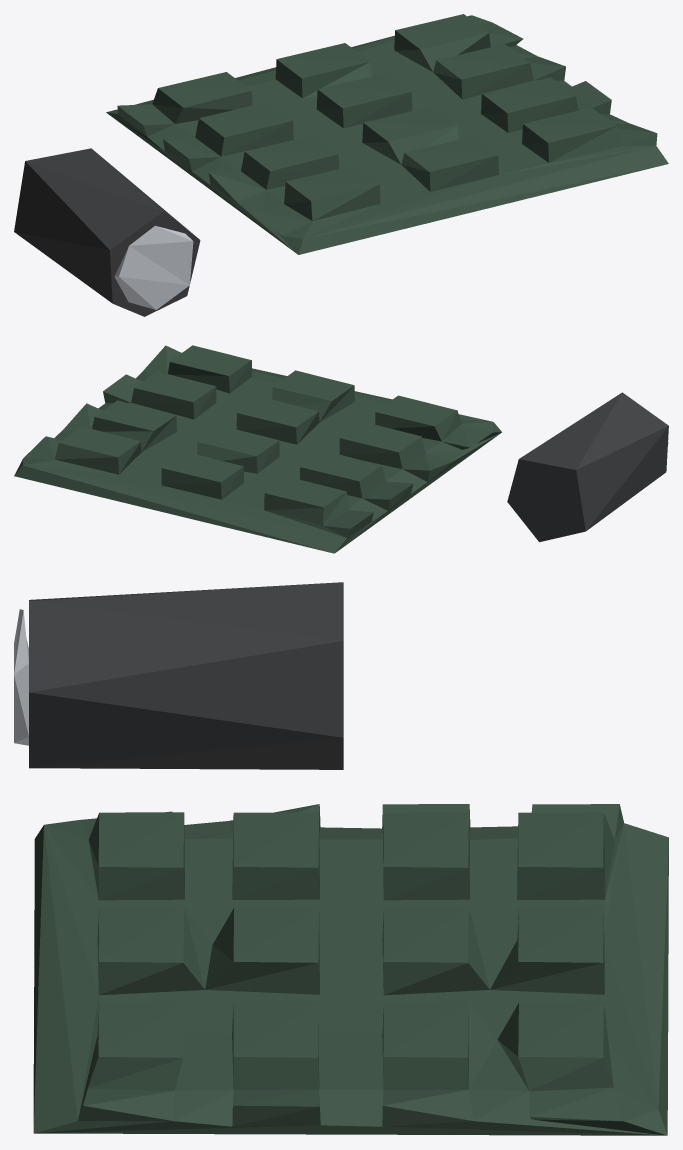
File: ESC_LOD1.glb
3 renders of one model, top to bottom at view 1: azimuth 30°, elevation 25°; view 2: azimuth 150°, elevation 25°; view 3: azimuth 270°, elevation 25°, orthographic. The views are drawn at different scales.
Parts seen in each view (by area): view 1: Capacitor_End_LOD1.001; view 2: Capacitor_End_LOD1.001; view 3: Capacitor_End_LOD1.001.
Boxes of the visible parts, x1,y1,x2,y2 form: Capacitor_End_LOD1.001: [14, 14, 668, 316]; Capacitor_End_LOD1.001: [14, 345, 668, 553]; Capacitor_End_LOD1.001: [14, 582, 668, 1135].
Size of the model in its own units: 0.0716 by 0.0124 by 0.0437.
